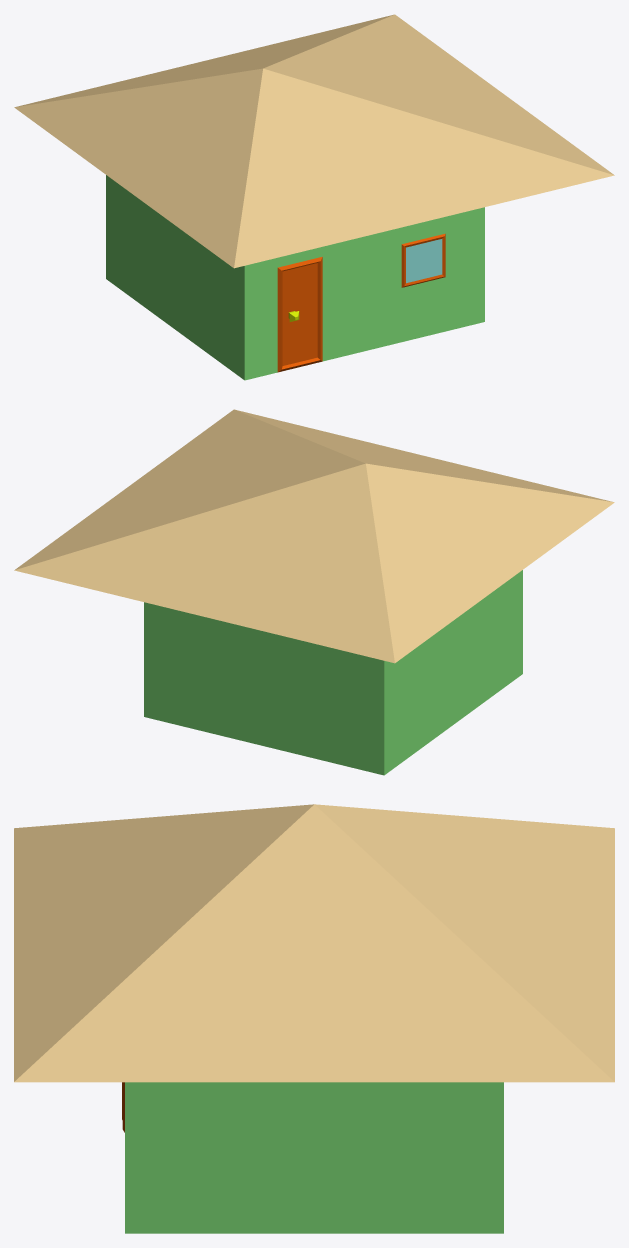
File: house.fbx
3 views of the same model, one above another, from view 1: azimuth 30°, elevation 25°; view 2: azimuth 150°, elevation 25°; view 3: azimuth 270°, elevation 25° (orthographic). The views are drawn at different scales.
Visible parts, largest first — view 1: Cube; view 2: Cube; view 3: Cube.
Part boxes in pixels (left/top/right/bottom): Cube: left=14, top=14, right=614, bottom=380; Cube: left=14, top=409, right=614, bottom=775; Cube: left=14, top=804, right=614, bottom=1233.
Bounding box in the file's own units: 2109 × 1268 × 2109.
